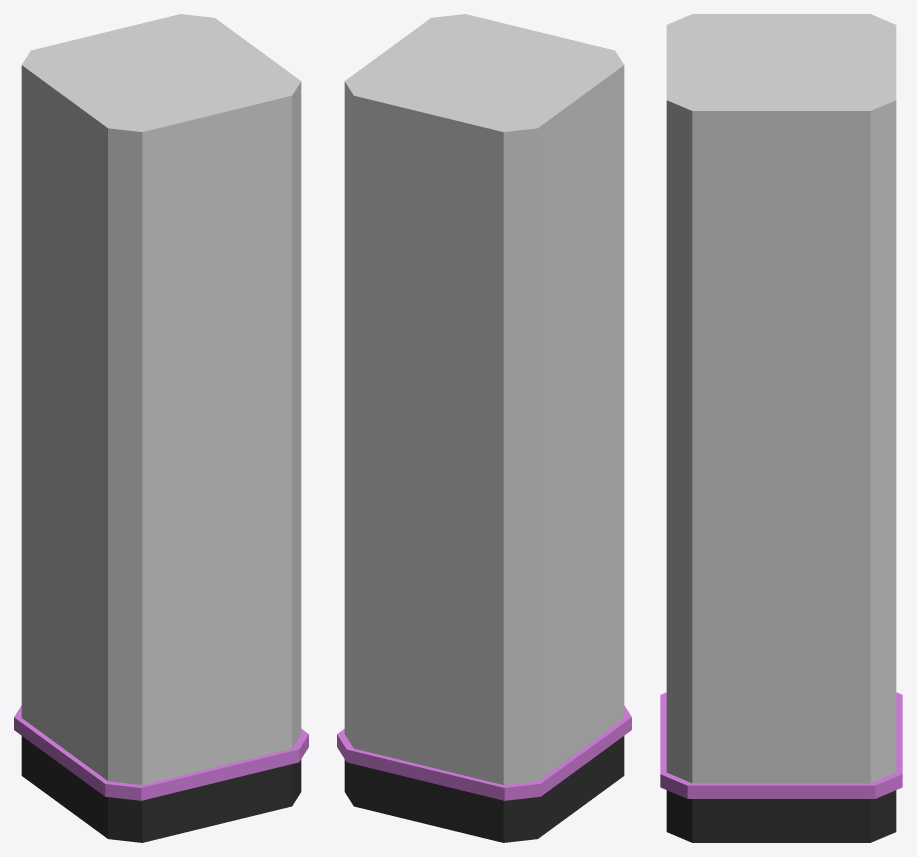
Rendered from building5.fbx.
3 views of the same model, side by side, from view 1: azimuth 30°, elevation 25°; view 2: azimuth 150°, elevation 25°; view 3: azimuth 270°, elevation 25° (orthographic). The views are drawn at different scales.
Parts seen in each view (by area): view 1: Cube.004; view 2: Cube.004; view 3: Cube.004.
Boxes of the visible parts, x1=… form: Cube.004: x1=14, y1=14, x2=308, y2=842; Cube.004: x1=337, y1=14, x2=631, y2=842; Cube.004: x1=660, y1=14, x2=902, y2=842.
Size of the model in its own units: 1500 by 5000 by 1500.
